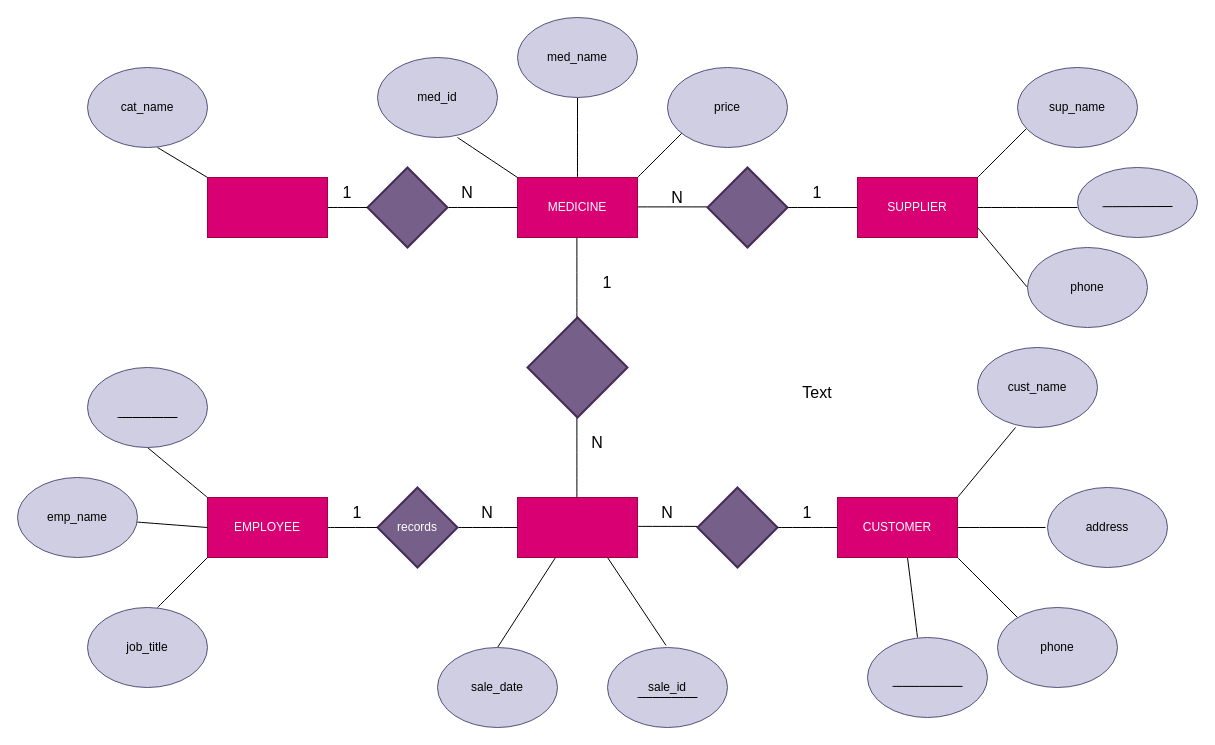
The diagram is 1215 pixels wide and 745 high, and some of its shapes have lost their labels. The shapes that lost their labels are listed below. From the top down, each one's centre as x and y in pixels, then its label:
the point at 267,207: CATEGORY
the point at 407,207: categorizes
the point at 747,207: supplies
the point at 1137,202: sup_id
the point at 577,367: included in
the point at 147,407: emp_id
the point at 577,527: SALES
the point at 737,527: purchases
the point at 927,677: cus
